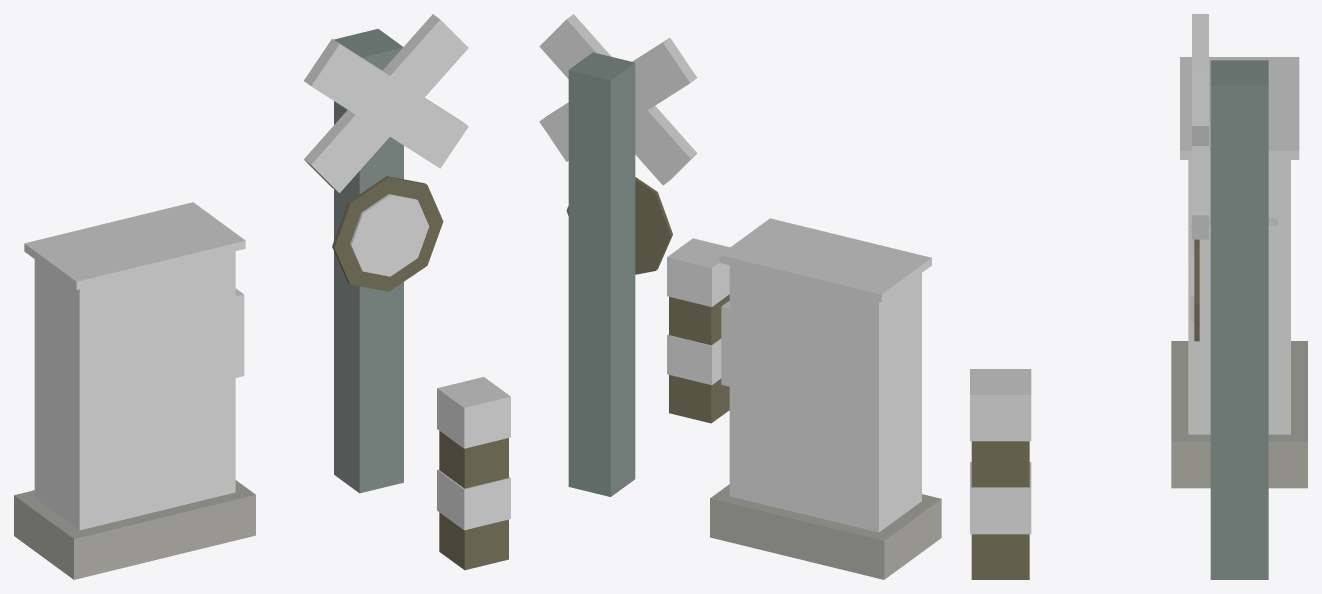
File: SM_ArmarioAdif_v0_Completo_LOD1.fbx
3 views of the same model, side by side, from view 1: azimuth 30°, elevation 25°; view 2: azimuth 150°, elevation 25°; view 3: azimuth 270°, elevation 25° (orthographic). The views are drawn at different scales.
Visible parts, largest first — view 1: SM_sagunto_vivo_v10_LOD1; view 2: SM_sagunto_vivo_v10_LOD1; view 3: SM_sagunto_vivo_v10_LOD1.
Boxes of the visible parts, box(x1,y1,x2,y2) form: SM_sagunto_vivo_v10_LOD1: box(14, 14, 510, 579); SM_sagunto_vivo_v10_LOD1: box(539, 14, 941, 579); SM_sagunto_vivo_v10_LOD1: box(970, 14, 1307, 579).
Size of the model in its own units: 3.11 by 3.4 by 1.98.
